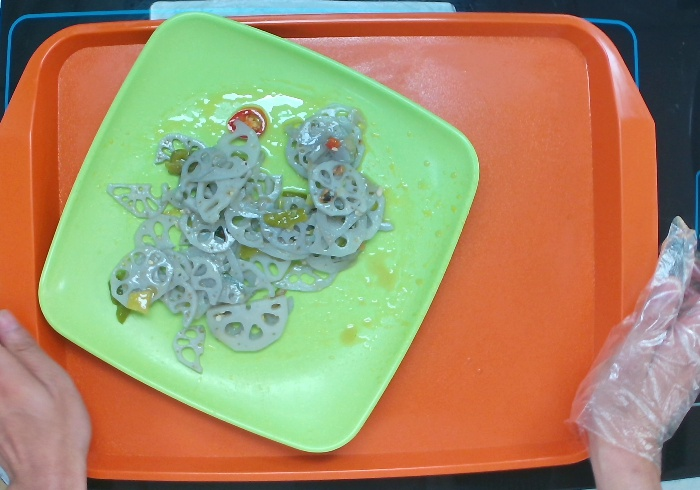ZNLD-Lv_Fang_Pan: (37, 10, 479, 458)
